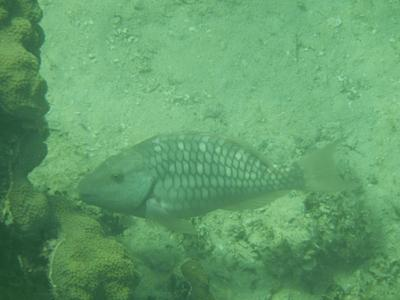Scaridae -Parrotfishes-: (71, 118, 361, 236)
